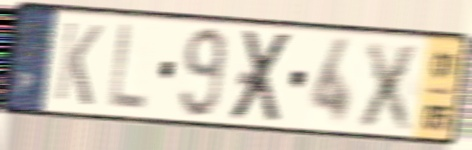4: (306, 33, 354, 132)
9: (177, 23, 229, 122)
K: (52, 18, 105, 110)
L: (105, 20, 150, 115)
X: (353, 37, 427, 135), (226, 28, 297, 125)
